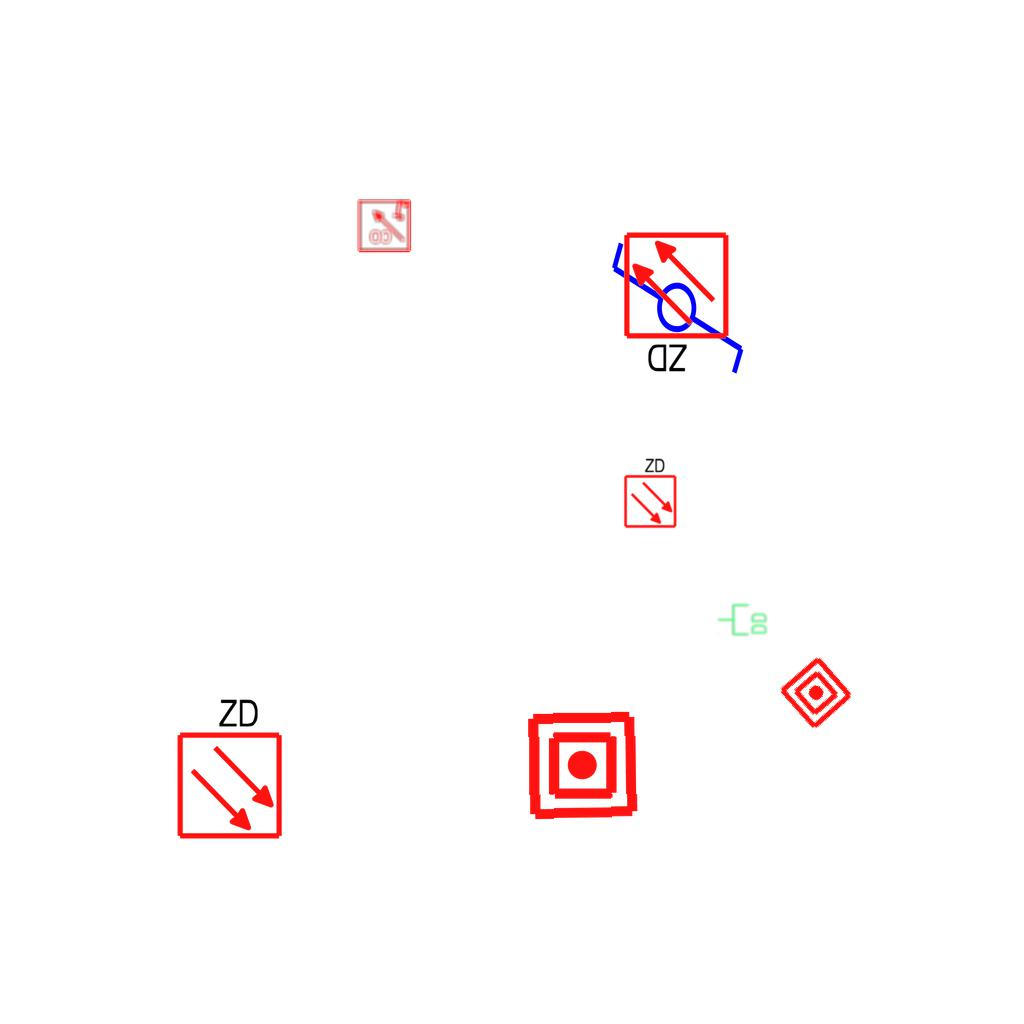Datenanschluss_zweifach: (717, 603, 768, 637)
NAM-Nichtautomatischer_Melder: (525, 708, 640, 823), (776, 653, 856, 733)
ROA_Rauchmelder_optisch_mit_Signalgeber_(Sockelsirene): (356, 197, 412, 253)
Wechselschalter: (607, 221, 751, 378)
ZD_Melder_in_Zwischendecke_mit_Revisionsoeffnung_mind_40_x_40_cm: (171, 692, 285, 841), (621, 230, 735, 379), (621, 455, 678, 529)
